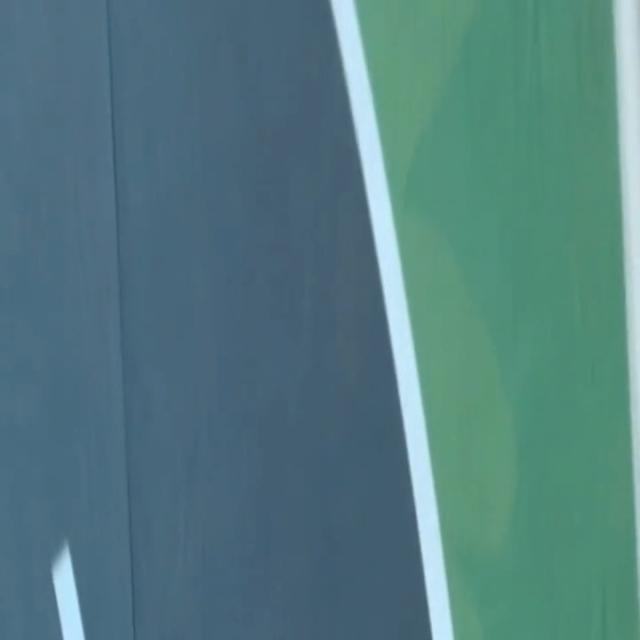center: (52, 540, 84, 639)
right: (330, 0, 453, 639)
